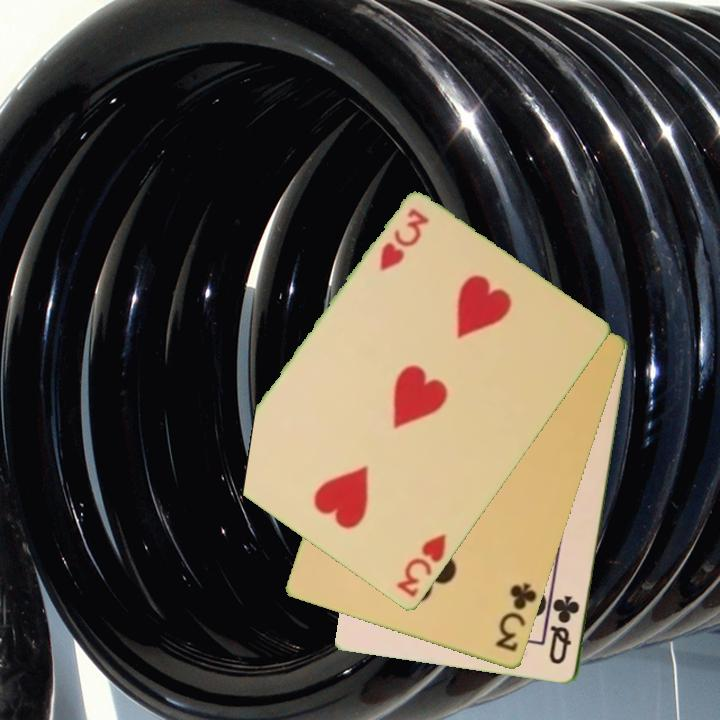3c: (492, 580, 540, 655)
3h: (393, 531, 450, 601), (376, 205, 432, 275)
Qc: (546, 592, 583, 668)
